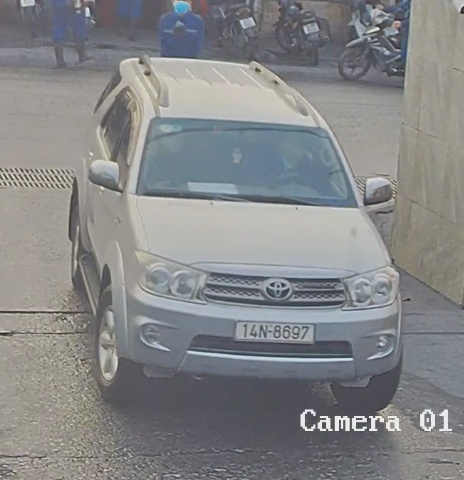vehicle plate: (230, 316, 321, 348)
